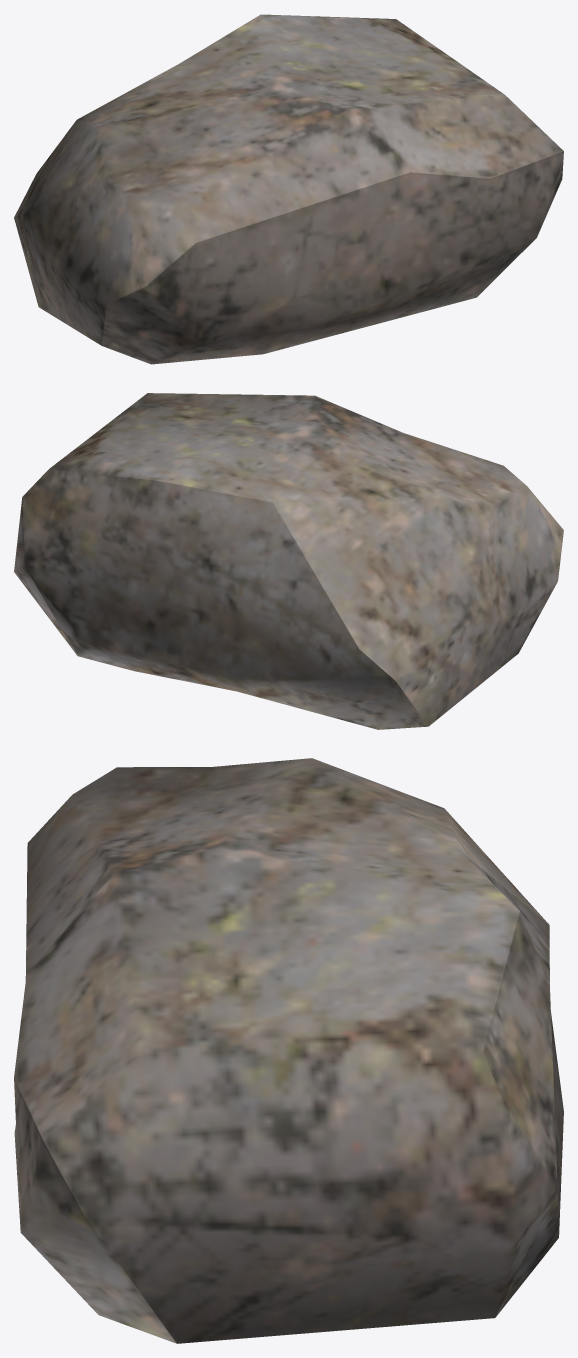
The model's file is SM_Stone05.FBX.
The picture shows the model from 3 angles, top to bottom: view 1: azimuth 30°, elevation 25°; view 2: azimuth 150°, elevation 25°; view 3: azimuth 270°, elevation 25°; orthographic projection. The views are drawn at different scales.
Parts seen in each view (by area): view 1: SM_Stone05; view 2: SM_Stone05; view 3: SM_Stone05.
Boxes of the visible parts, x1,y1,x2,y2 form: SM_Stone05: (14, 14, 563, 364); SM_Stone05: (14, 393, 563, 729); SM_Stone05: (14, 758, 563, 1343).
Bounding box in the file's own units: 160 × 105 × 80.75.
